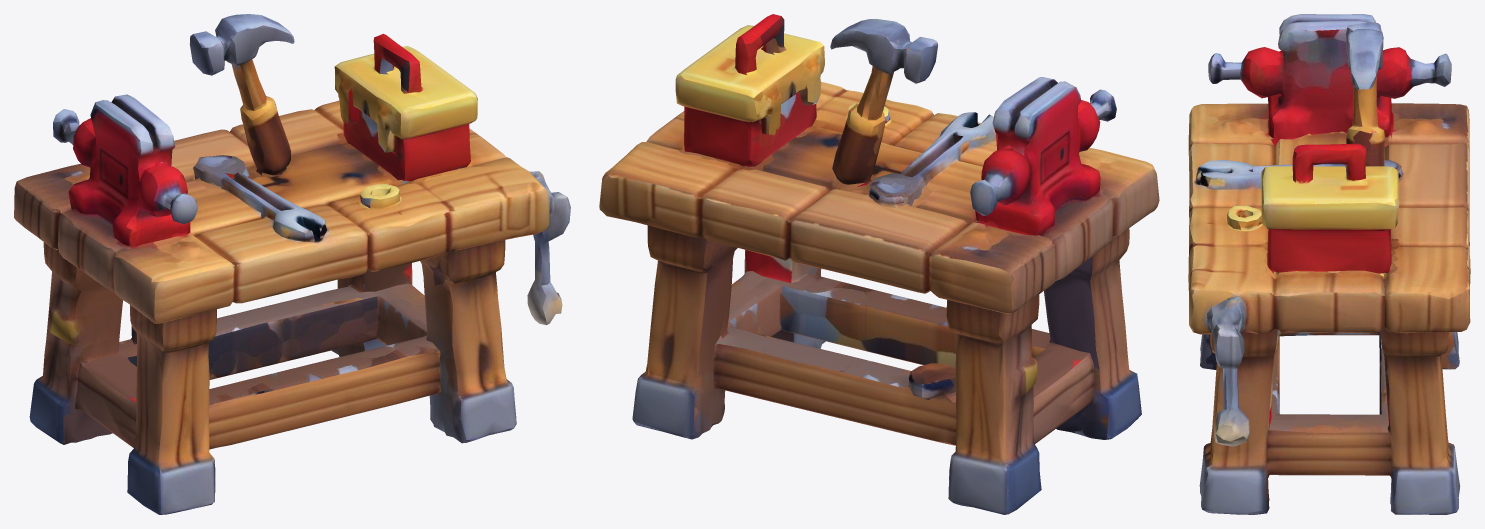
The model's file is workbench.glb.
The picture shows the model from 3 angles, left to right: view 1: azimuth 30°, elevation 25°; view 2: azimuth 150°, elevation 25°; view 3: azimuth 270°, elevation 25°; orthographic projection. The views are drawn at different scales.
Parts seen in each view (by area): view 1: workbench_s21; view 2: workbench_s21; view 3: workbench_s21.
Boxes of the visible parts, <box> form: workbench_s21: <box>14,14,570,514</box>; workbench_s21: <box>599,14,1159,514</box>; workbench_s21: <box>1188,14,1470,514</box>.
Bounding box in the file's own units: 1 × 0.8815 × 0.5793.
Materials: 1 (1 with a texture image).
